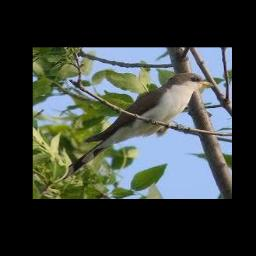Cuckoo: (58, 73, 215, 181)
